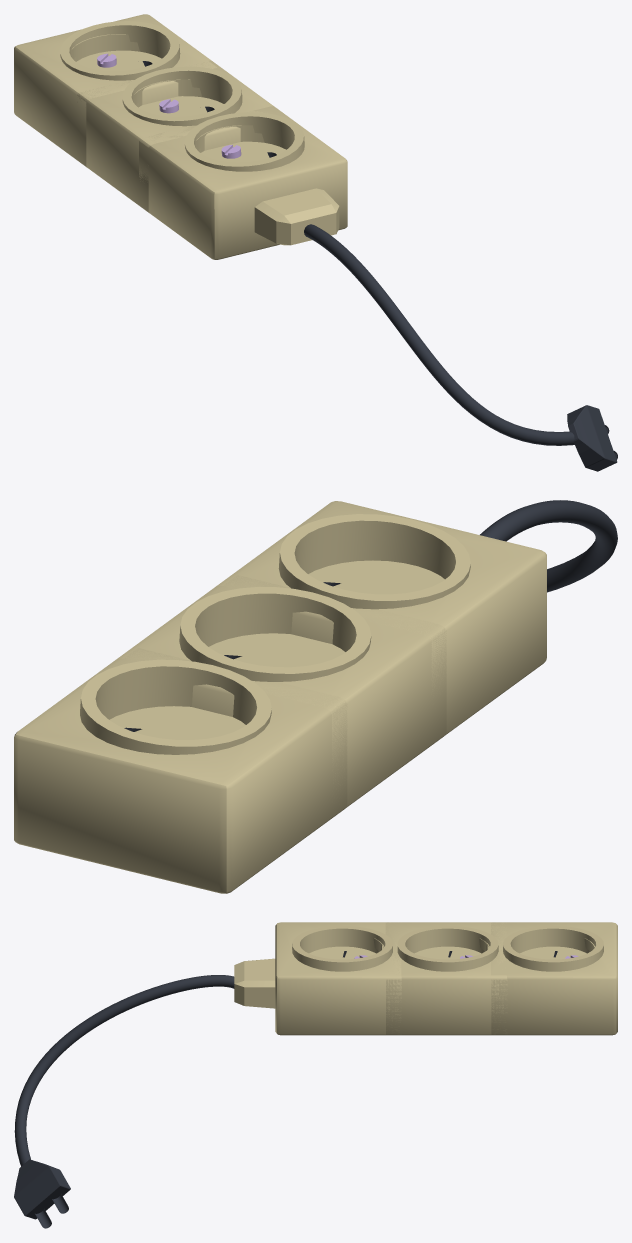
Rendered from ТРОЙНИК.fbx.
3 renders of one model, top to bottom at view 1: azimuth 30°, elevation 25°; view 2: azimuth 150°, elevation 25°; view 3: azimuth 270°, elevation 25°, orthographic. The views are drawn at different scales.
Parts seen in each view (by area): view 1: Куб.052, ТраекторияNurbs.009; view 2: Куб.052, ТраекторияNurbs.009; view 3: Куб.052, ТраекторияNurbs.009.
Boxes of the visible parts, x1=… form: Куб.052: x1=14, y1=14, x2=617, y2=471; ТраекторияNurbs.009: x1=304, y1=224, x2=574, y2=445; Куб.052: x1=14, y1=501, x2=546, y2=893; ТраекторияNurbs.009: x1=480, y1=500, x2=617, y2=592; Куб.052: x1=14, y1=922, x2=617, y2=1228; ТраекторияNurbs.009: x1=14, y1=975, x2=234, y2=1166.
Bounding box in the file's own units: 99.5 × 86.67 × 228.
